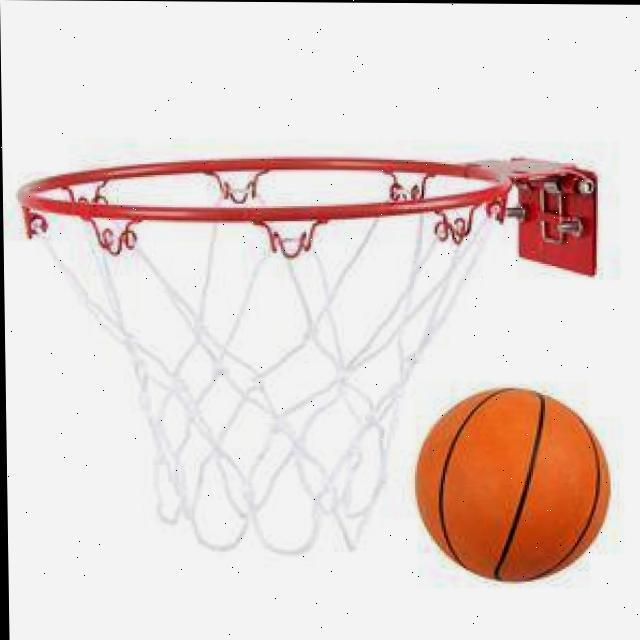Basketball: (417, 386, 610, 583)
